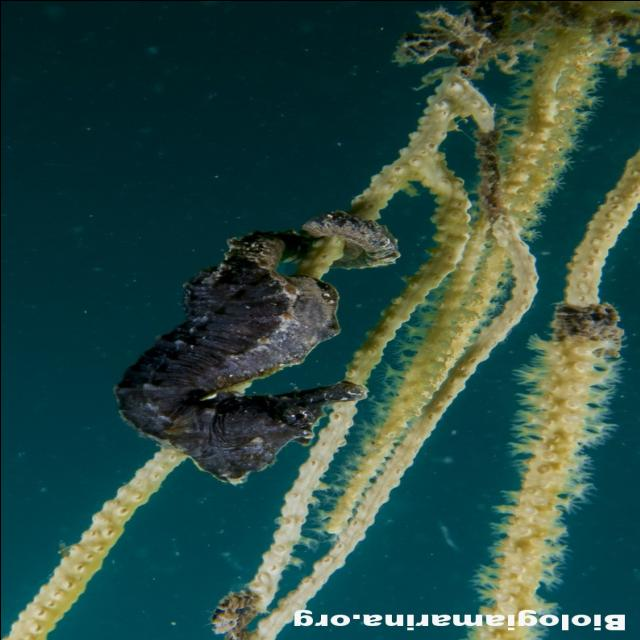Hippo: (178, 374, 370, 488)
